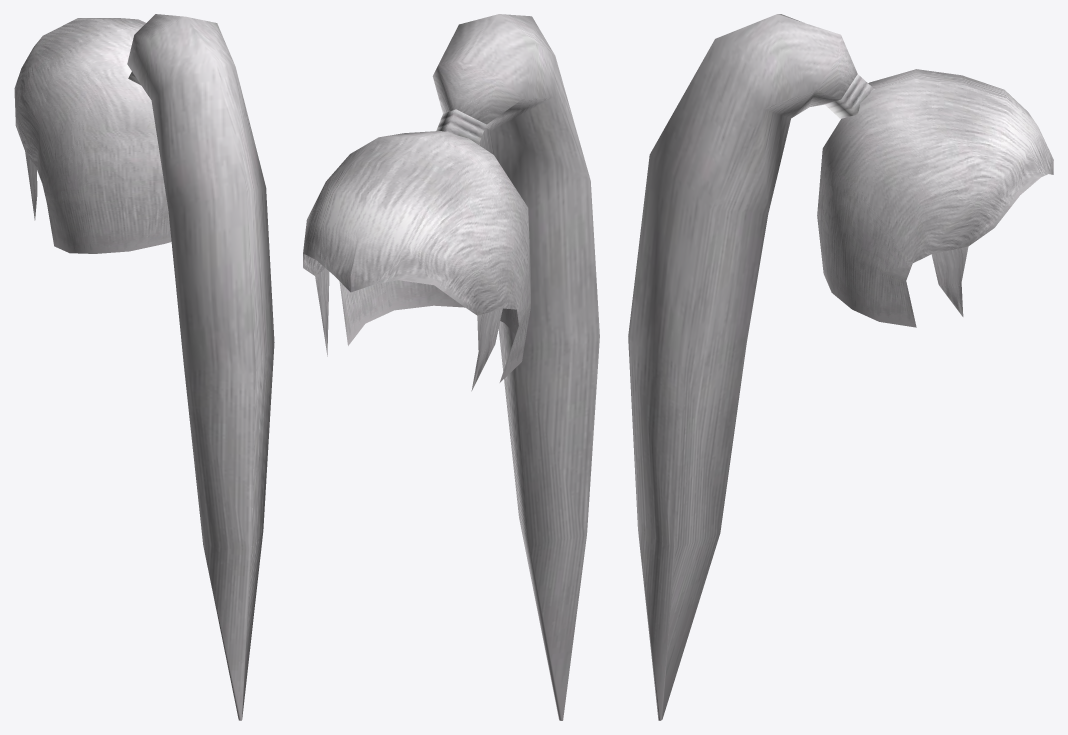
File: Martial arts male hair 08.glb
3 views of the same model, side by side, from view 1: azimuth 30°, elevation 25°; view 2: azimuth 150°, elevation 25°; view 3: azimuth 270°, elevation 25° (orthographic). The views are drawn at different scales.
Parts seen in each view (by area): view 1: 武侠男头发08_0; view 2: 武侠男头发08_0; view 3: 武侠男头发08_0.
Part boxes in pixels (x1,y1,x2,y2): 武侠男头发08_0: [14, 14, 274, 720]; 武侠男头发08_0: [303, 14, 599, 720]; 武侠男头发08_0: [628, 14, 1053, 720].
Bounding box in the file's own units: 0.1618 × 0.6381 × 0.3486.
1 material, 1 textured.
